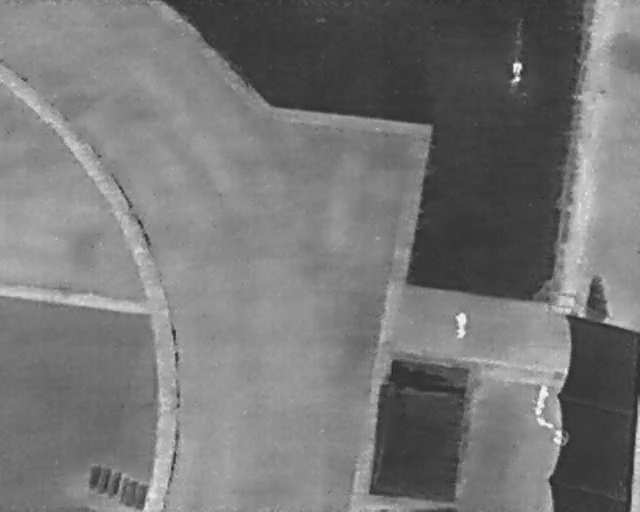Person: (530, 380, 554, 417), (452, 310, 468, 340), (510, 57, 524, 85)
